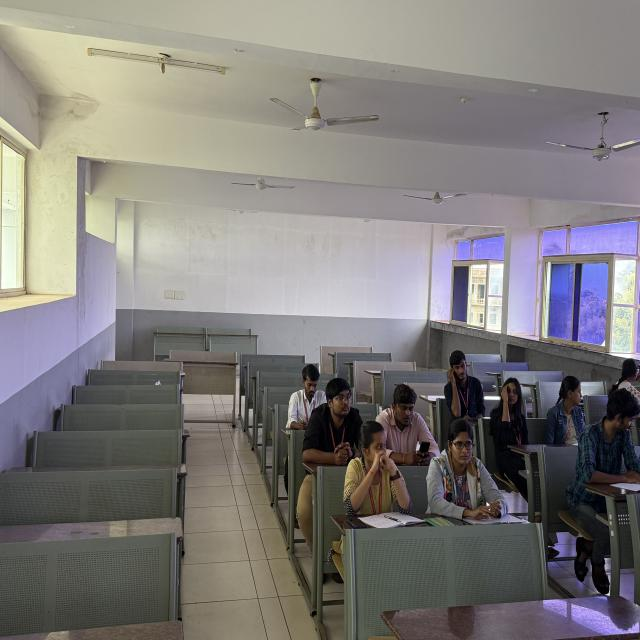Using Phone: (382, 374, 441, 473), (440, 348, 489, 426)
